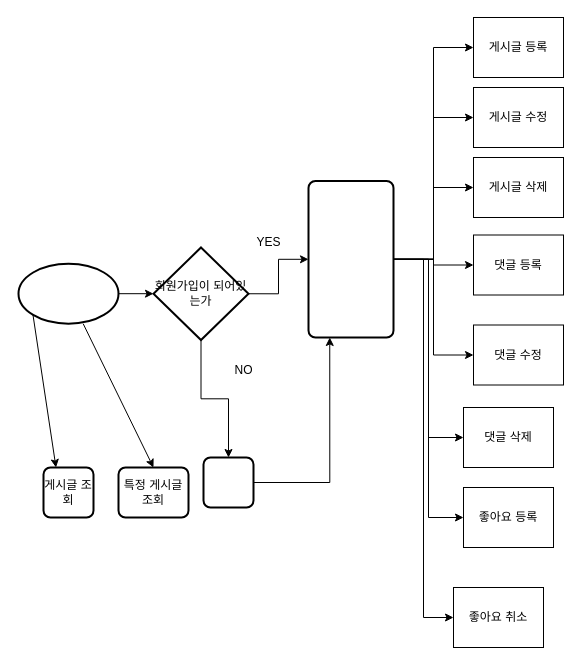
Some shapes in this 581 by 665 pixel diagram are drawn without their labels. The shapes that lost their labels are listed below. From the top down, each one's centre as x and y in pixels, then its label:
(350,259): 로그인
(68,293): 실행
(228,482): 회원가입
